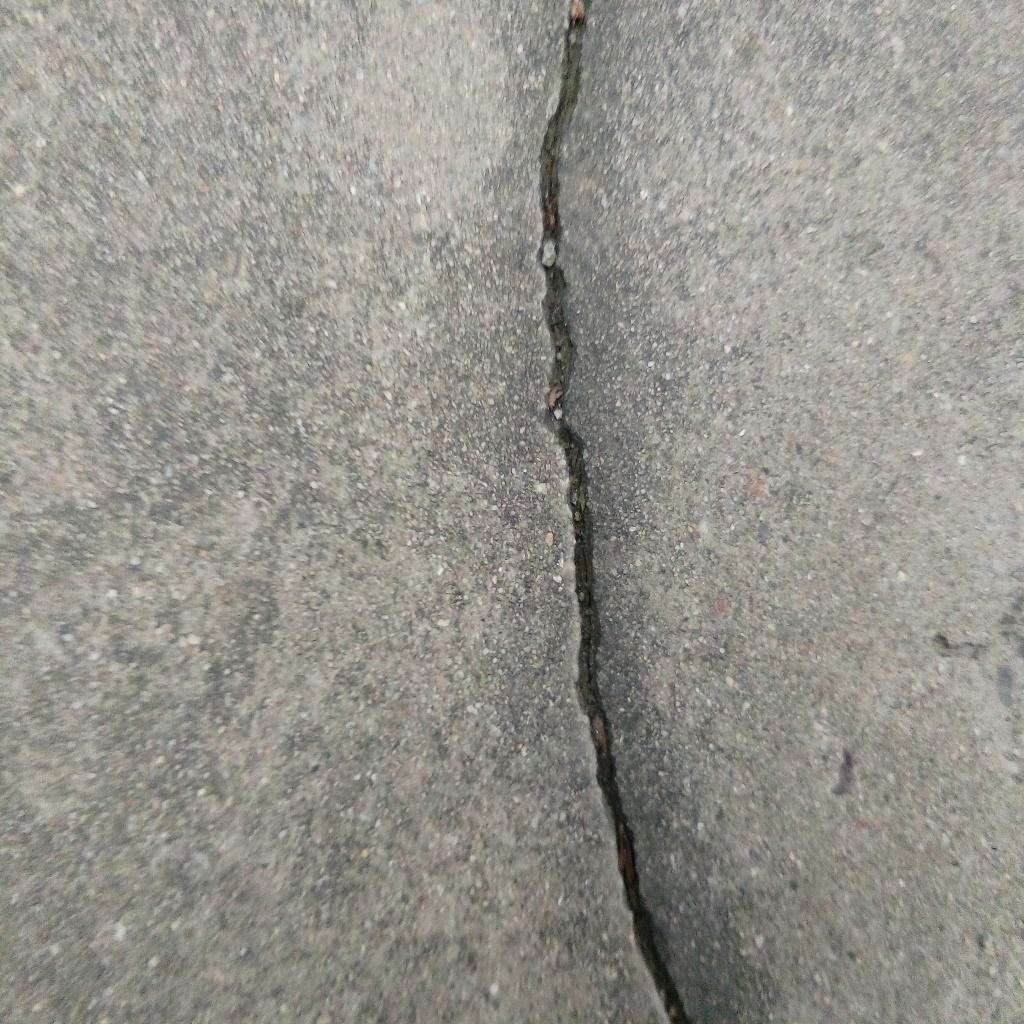Crack: (534, 1, 692, 1024)
